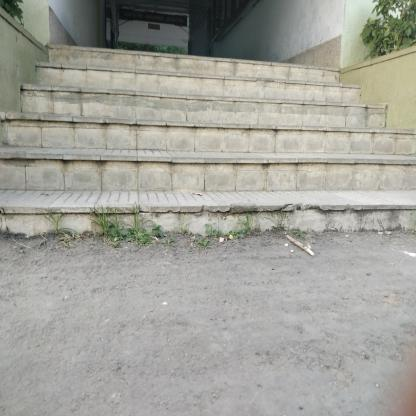stairs: (115, 80, 359, 249)
